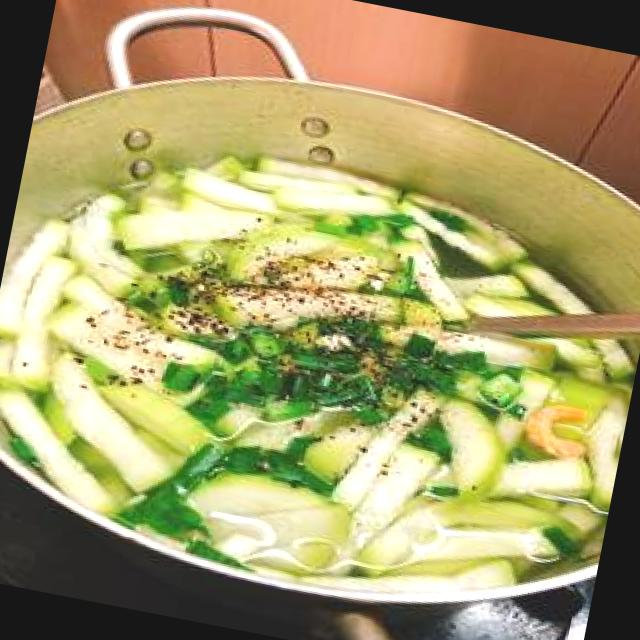canh bau: (0, 156, 630, 587)
